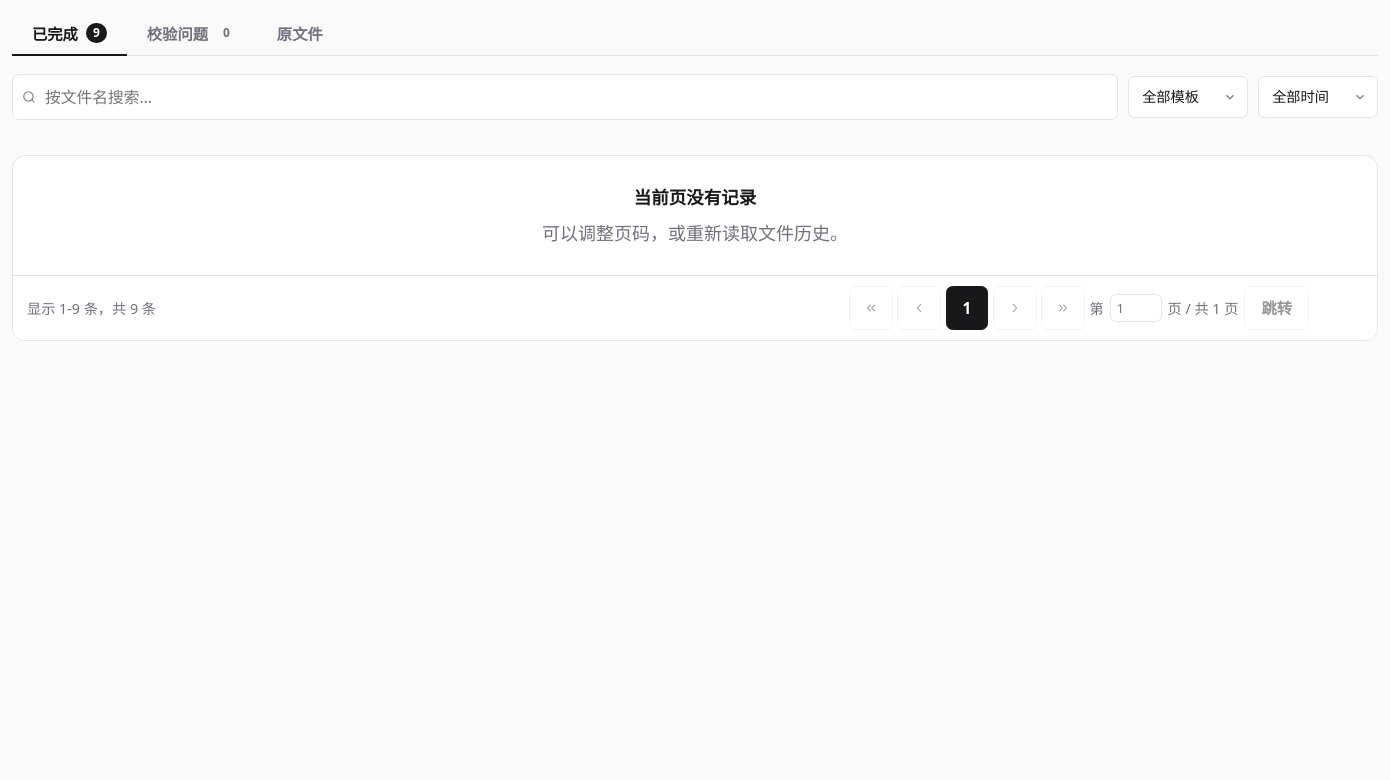
Test: HistoryPage request races › does not let an older search response replace the newer list or counts
The image size is (1390, 780).
Step 1. Type "A" into the field labelled "按文件名搜索" → x=565, y=96, box 12,74 -> 1118,120
Wait 250 ms
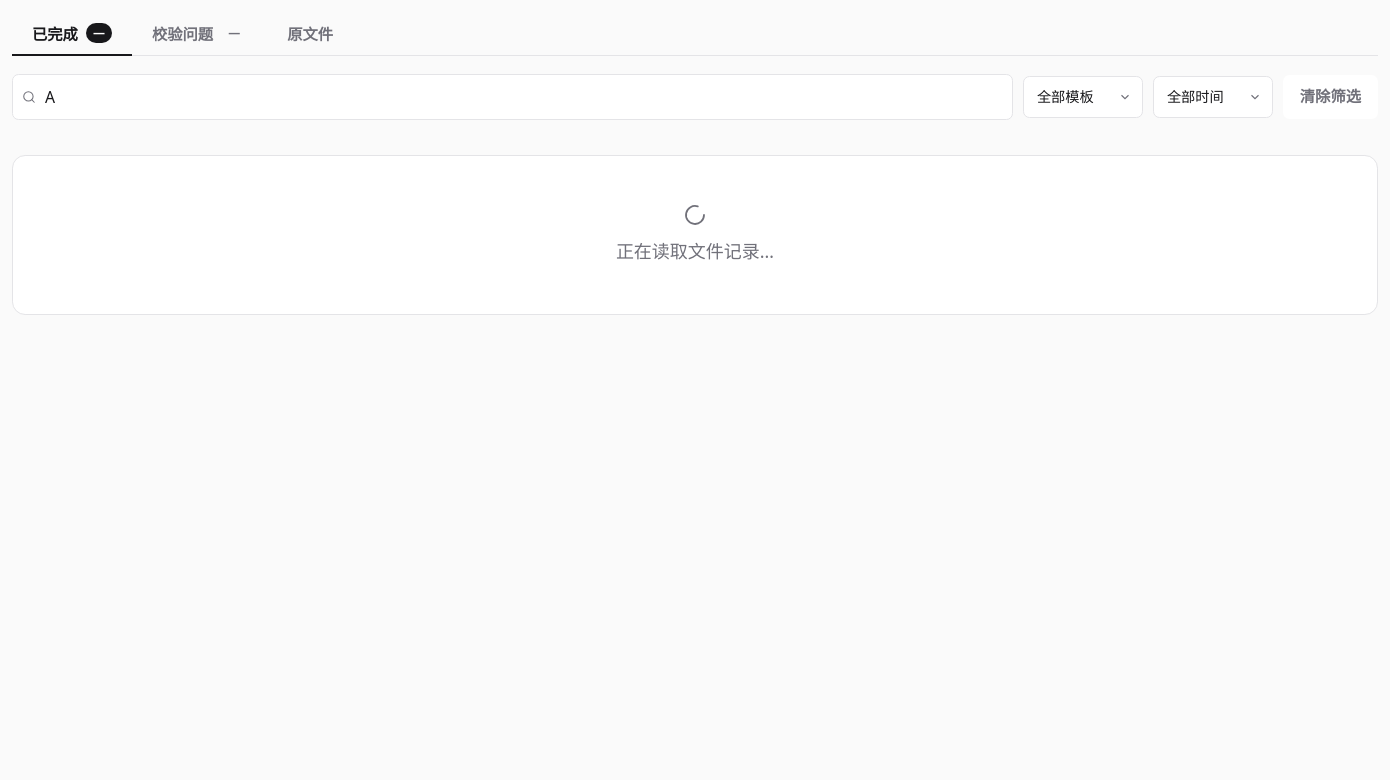
Step 2. Replace the text in the field named "按文件名搜索" with "B" → x=512, y=96, box 12,74 -> 1013,120
Wait 250 ms
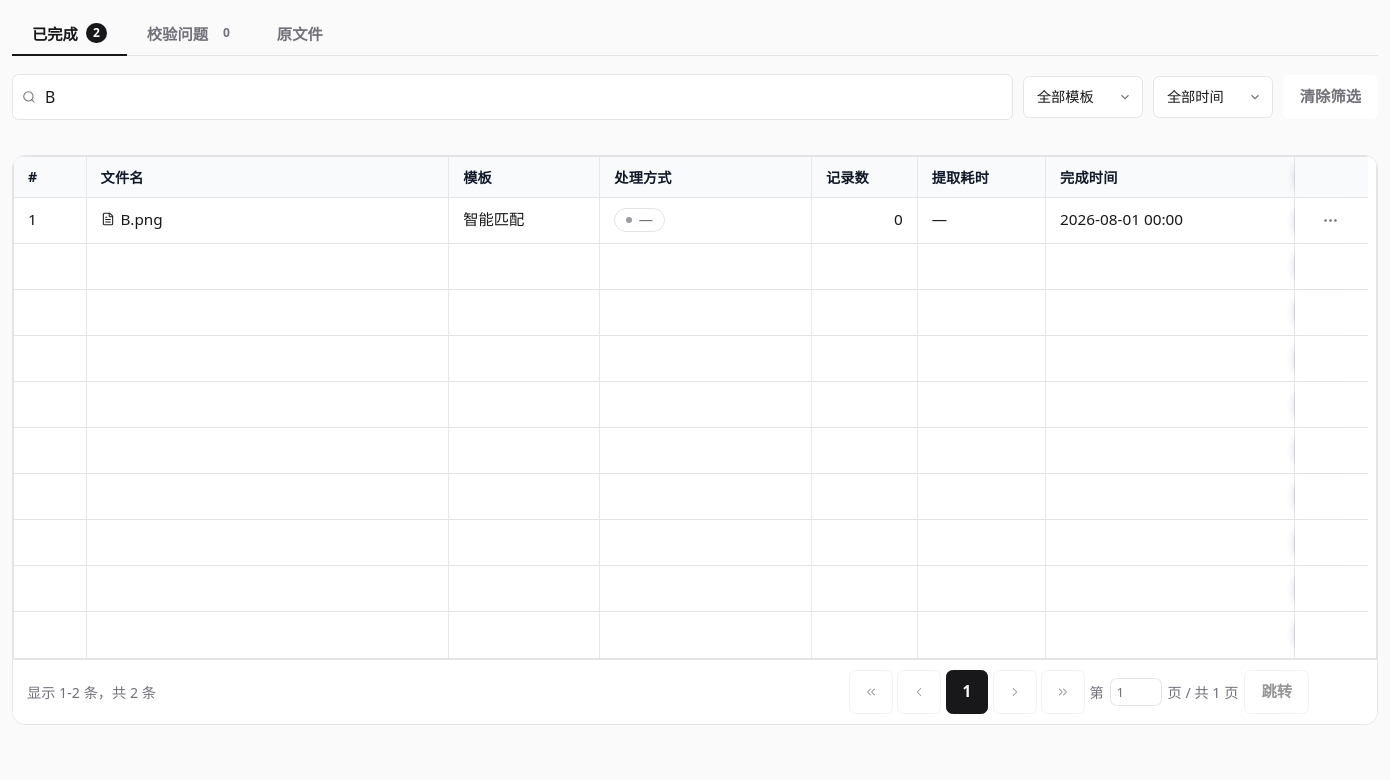
Expected: the text "B.png" is shown, 120,210 -> 163,229
Expected: the button "已完成 2" is shown, 12,12 -> 127,56
